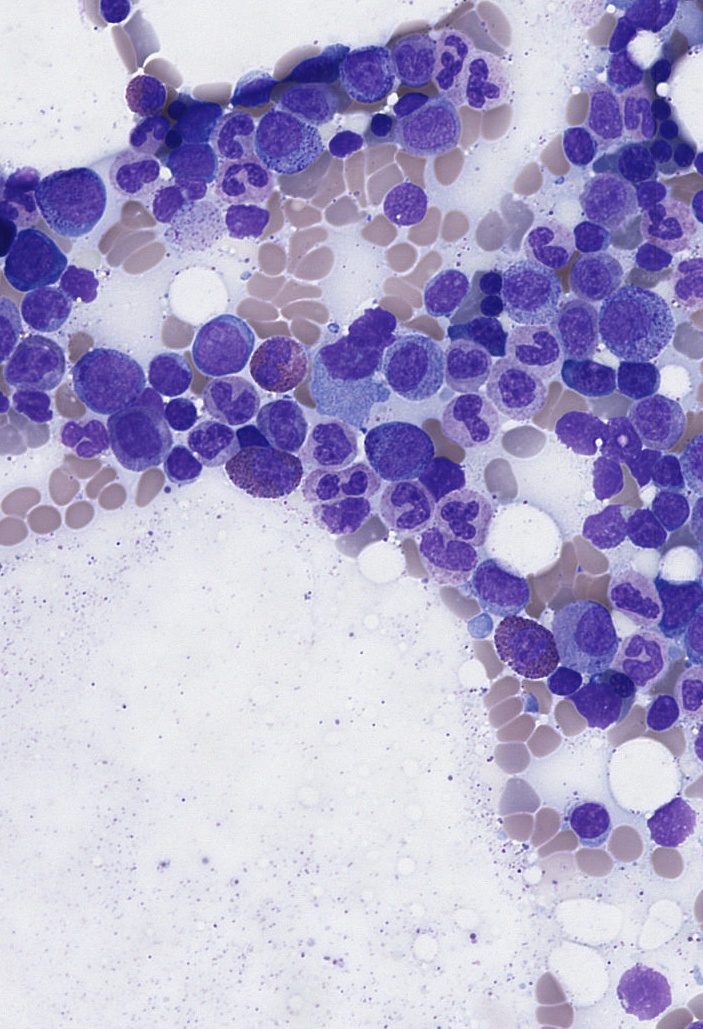objectness: (603, 573, 653, 623), (204, 149, 254, 199), (68, 408, 118, 458), (644, 207, 694, 257), (519, 328, 569, 378), (390, 474, 440, 524), (520, 227, 570, 277), (434, 490, 484, 540), (305, 460, 355, 510), (618, 644, 668, 694), (441, 387, 491, 437), (627, 393, 677, 443), (569, 604, 619, 654), (547, 305, 597, 355), (256, 397, 306, 447), (385, 341, 435, 391), (578, 172, 628, 222), (489, 360, 539, 410), (105, 407, 155, 457), (567, 252, 617, 302), (501, 261, 551, 311), (5, 336, 55, 386), (497, 620, 547, 670), (246, 442, 296, 492), (248, 335, 298, 385), (415, 530, 465, 580), (309, 417, 359, 467), (185, 417, 235, 467), (204, 379, 254, 429), (441, 337, 491, 387), (107, 148, 157, 198), (80, 349, 130, 399), (4, 231, 54, 281), (194, 317, 244, 367), (581, 452, 631, 502), (226, 409, 276, 459), (153, 387, 203, 437), (539, 658, 589, 708), (379, 174, 429, 224), (5, 376, 55, 426), (320, 489, 370, 539), (594, 412, 644, 462), (626, 231, 676, 281), (642, 798, 692, 848), (222, 194, 272, 244), (619, 439, 669, 489), (414, 449, 464, 499), (327, 320, 377, 370), (578, 499, 628, 549), (143, 175, 193, 225), (614, 350, 664, 400), (54, 255, 104, 305), (554, 407, 604, 457), (624, 168, 674, 218), (474, 560, 524, 610), (420, 265, 470, 315), (564, 210, 614, 260), (636, 692, 686, 742), (561, 793, 611, 843), (646, 481, 696, 531), (141, 349, 191, 399), (154, 437, 204, 487), (595, 660, 645, 710), (565, 353, 615, 403), (467, 281, 517, 331), (458, 304, 508, 354), (463, 258, 513, 308), (601, 294, 651, 344), (373, 420, 423, 470), (51, 167, 101, 217), (654, 572, 703, 622), (668, 261, 703, 311), (0, 178, 32, 228), (672, 667, 703, 717)
